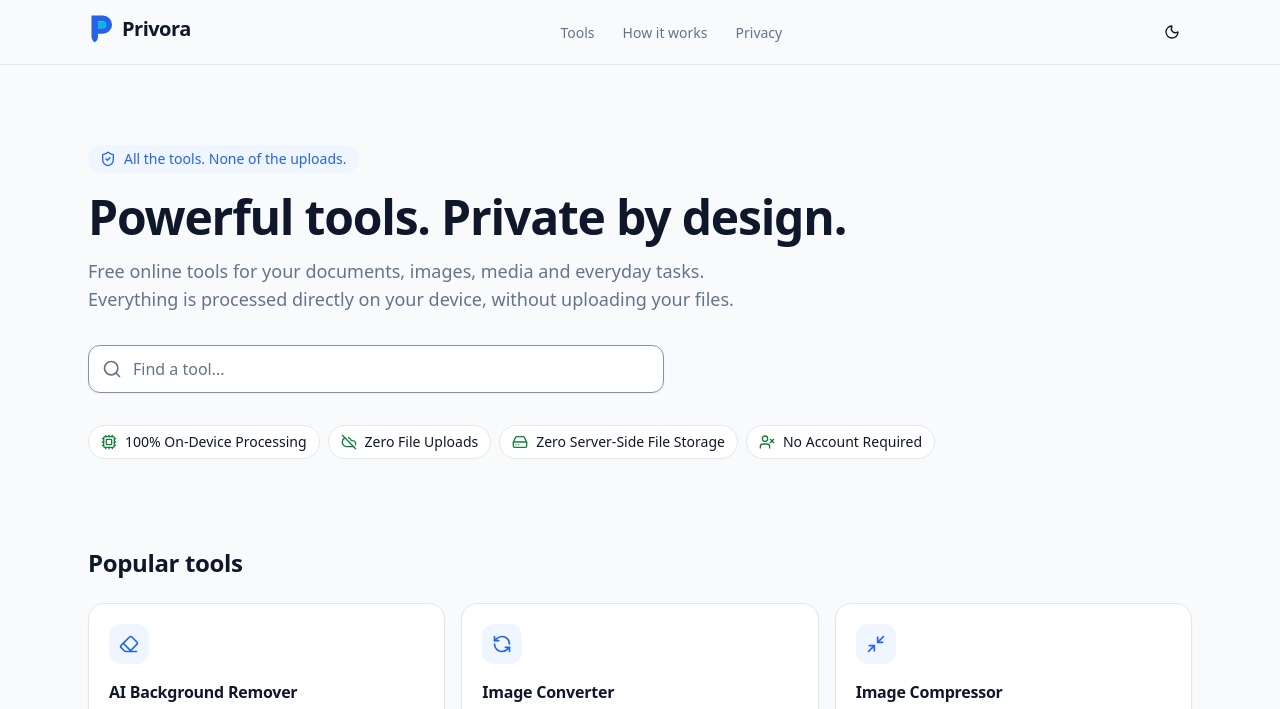
Test case: homepage › searches locally and links to results
This screenshot has width=1280, height=709.
In the search field with placeholder "Find a tool...": (376, 369) [88,345,664,393], type "picture converter"
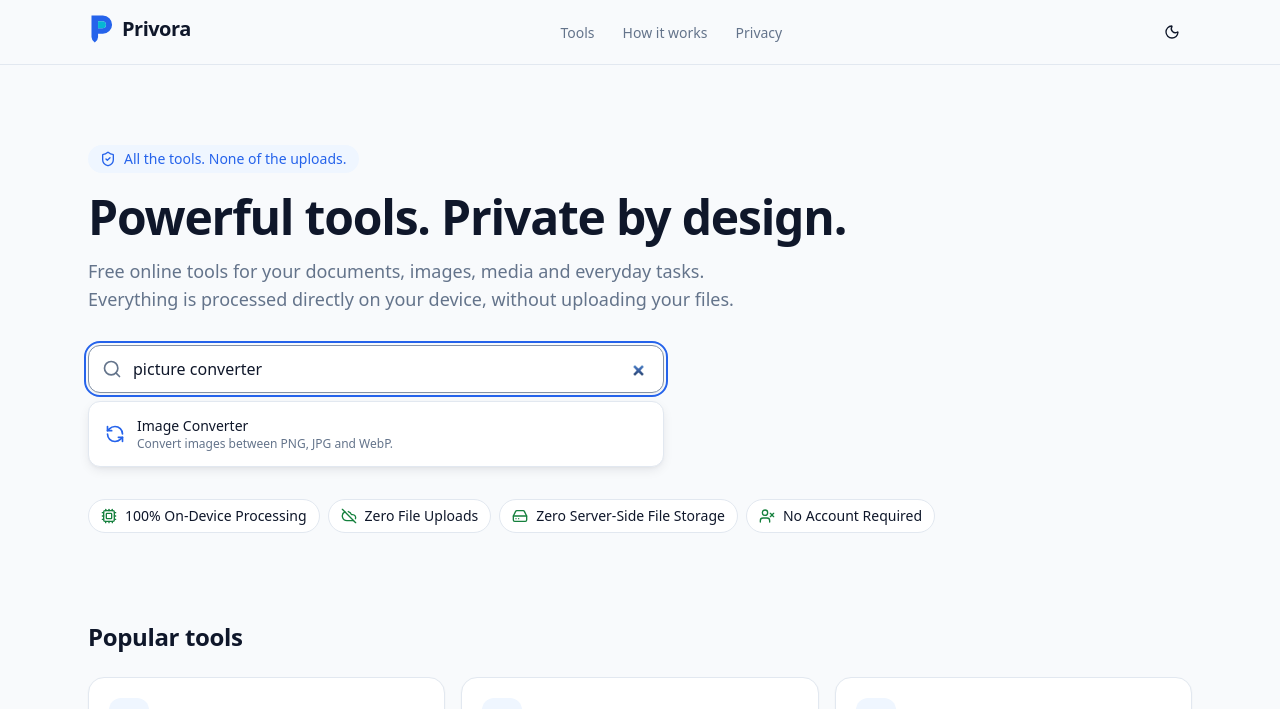
Replace the text in the search field with placeholder "Find a tool..." with "ocr": (376, 369) [88,345,664,393]
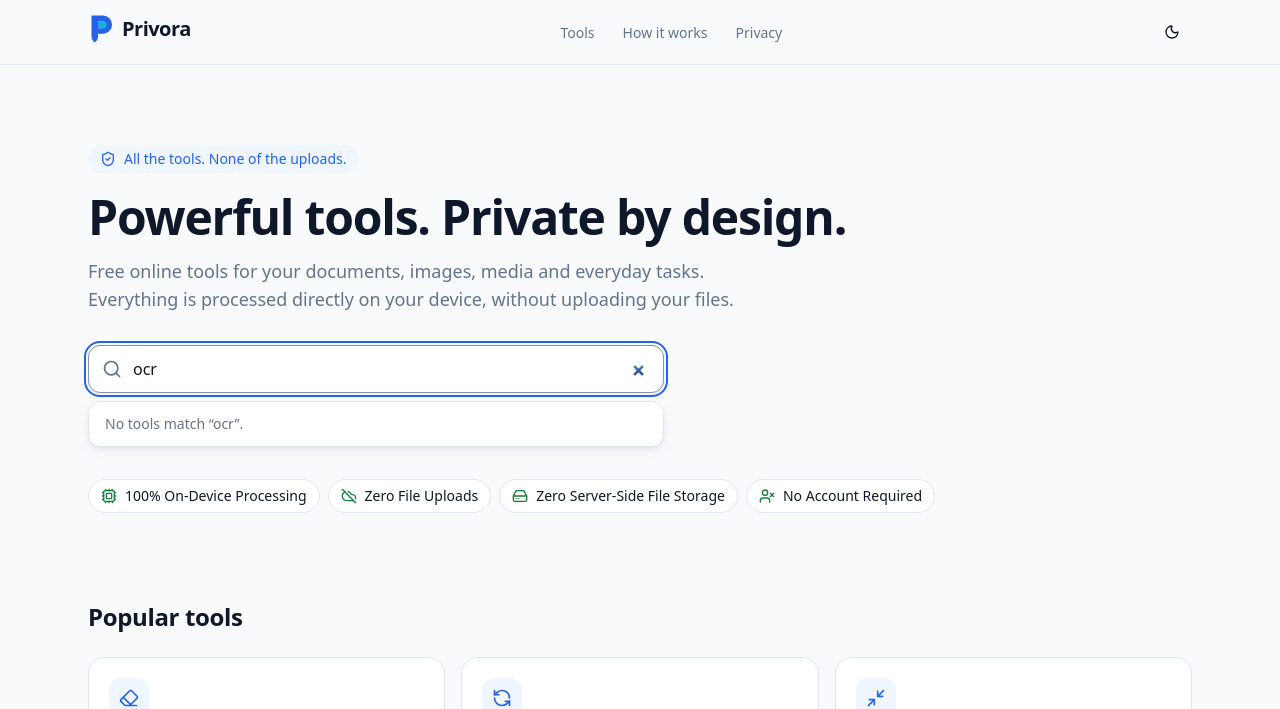
Expected: the text "No tools match “ocr”." is shown, [105,414,243,433]
